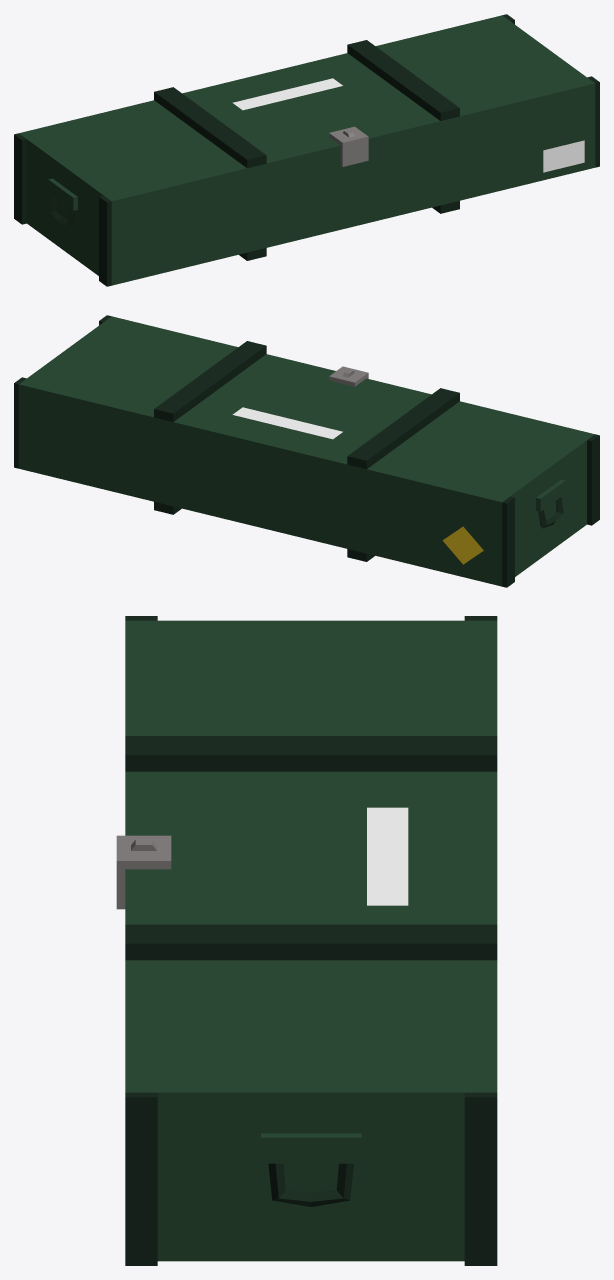
The model's file is weapons_crate-army-a.fbx.
3 views of the same model, one above another, from view 1: azimuth 30°, elevation 25°; view 2: azimuth 150°, elevation 25°; view 3: azimuth 270°, elevation 25° (orthographic). The views are drawn at different scales.
Visible parts, largest first — view 1: weapons_crate_army_a; view 2: weapons_crate_army_a; view 3: weapons_crate_army_a.
Boxes of the visible parts, x1,y1,x2,y2 form: weapons_crate_army_a: (14, 14, 599, 286); weapons_crate_army_a: (14, 315, 599, 587); weapons_crate_army_a: (116, 616, 497, 1265).
Size of the model in its own units: 200 by 38.9 by 66.31.
